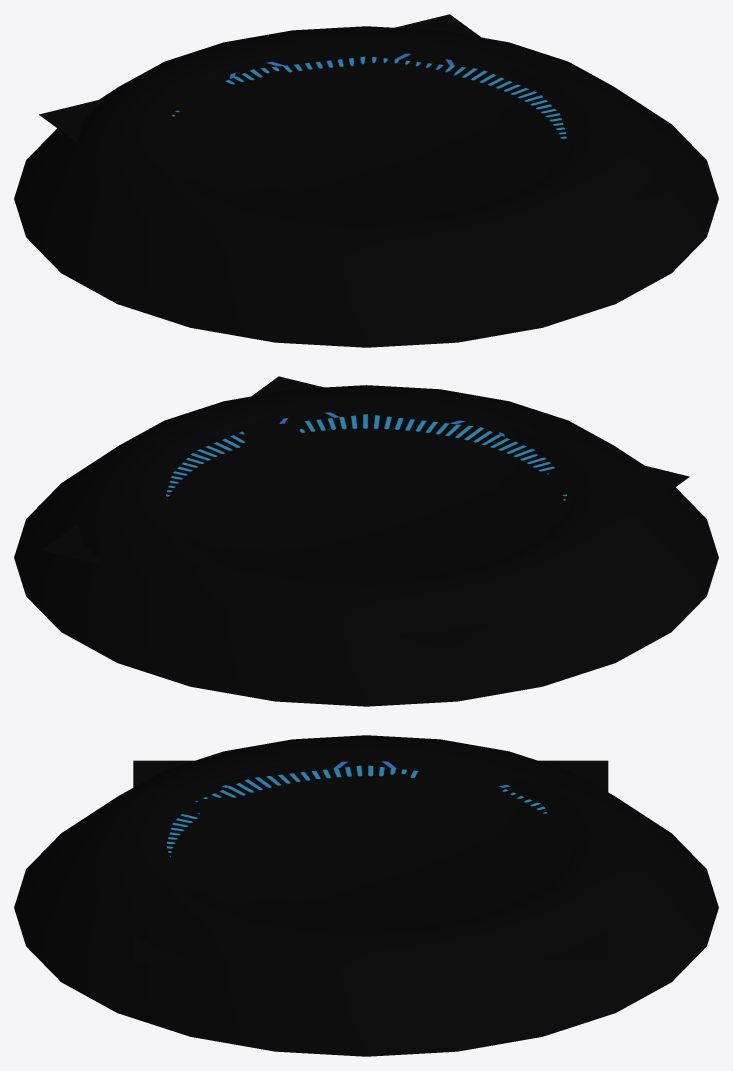
File: Plate.fbx
3 renders of one model, top to bottom at view 1: azimuth 30°, elevation 25°; view 2: azimuth 150°, elevation 25°; view 3: azimuth 270°, elevation 25°, orthographic.
Visible parts, largest first — view 1: Cube, Plane.003, Cube.001; view 2: Cube, Plane.003, Cube.001; view 3: Cube, Plane.003, Cube.001.
Part boxes in pixels (bbox=[...]): Cube: bbox=[14, 26, 718, 347]; Plane.003: bbox=[39, 14, 686, 288]; Cube.001: bbox=[191, 51, 537, 95]; Cube: bbox=[14, 385, 718, 706]; Plane.003: bbox=[41, 376, 689, 650]; Cube.001: bbox=[196, 410, 534, 450]; Cube: bbox=[14, 735, 718, 1056]; Plane.003: bbox=[133, 760, 608, 961]; Cube.001: bbox=[195, 760, 541, 804].
Size of the model in its own units: 121 by 12.59 by 121.
Materials: 9 (6 with a texture image).
